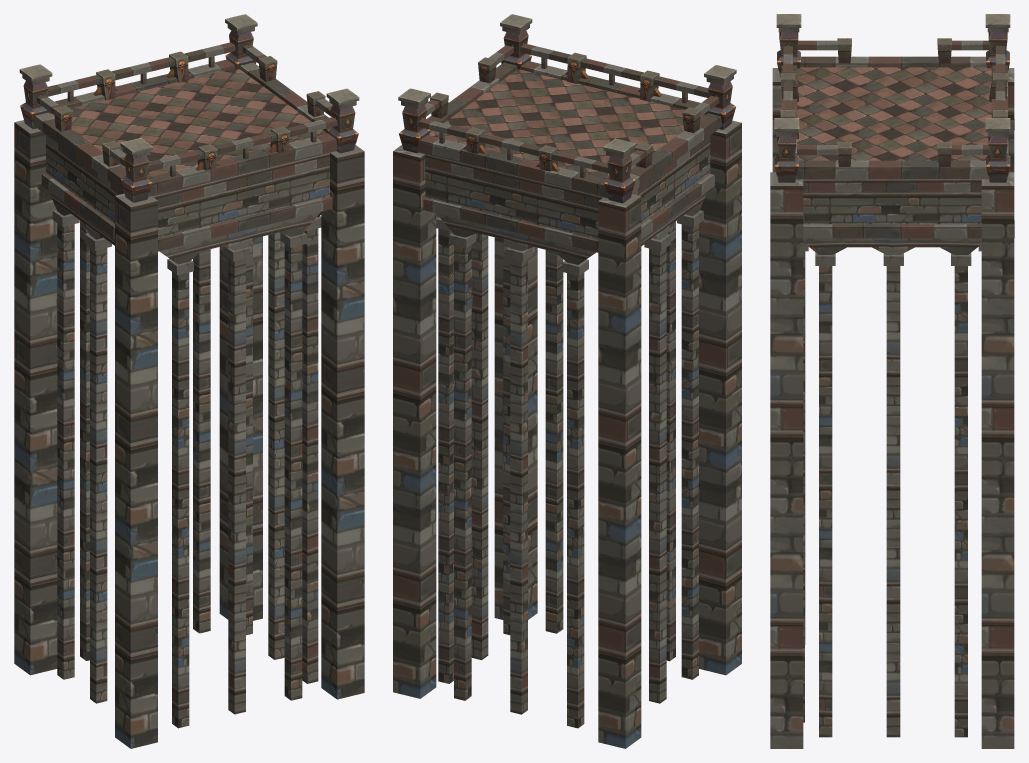
The model's file is pingtai_01.FBX.
The picture shows the model from 3 angles, left to right: view 1: azimuth 30°, elevation 25°; view 2: azimuth 150°, elevation 25°; view 3: azimuth 270°, elevation 25°; orthographic projection. The views are drawn at different scales.
Visible parts, largest first — view 1: Box458, Box471, Box469; view 2: Box458, Box471, Box469; view 3: Box458, Box471, Box469.
Boxes of the visible parts, x1,y1,x2,y2 form: Box458: (14, 42, 364, 748); Box471: (50, 68, 327, 177); Box469: (19, 14, 359, 202); Box458: (393, 43, 741, 748); Box471: (429, 69, 704, 178); Box469: (398, 14, 736, 203); Box458: (770, 40, 1014, 748); Box471: (797, 67, 991, 160); Box469: (774, 14, 1010, 182).
Size of the model in its own units: 791 by 1933 by 691.
